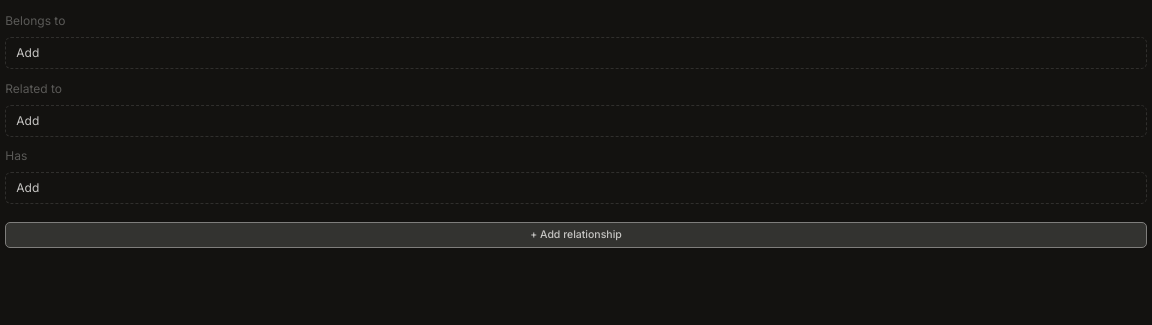
Scenario: DynamicRelationshipsPanel › create & open from AddRelationshipForm › shows "Create & open" option in target input when title does not exist
Click the button "+ Add relationship" at (576, 235), box [5,222,1147,248]
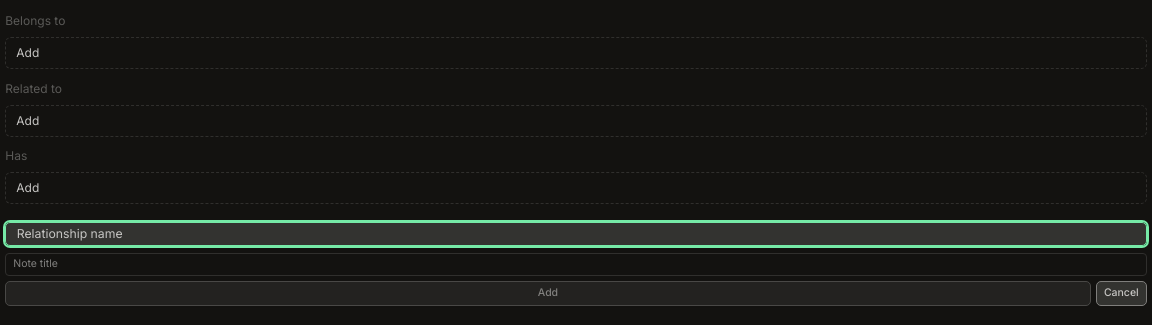
Type "Mentions" into the field with placeholder "Relationship name" at (576, 234), box [5,222,1147,246]
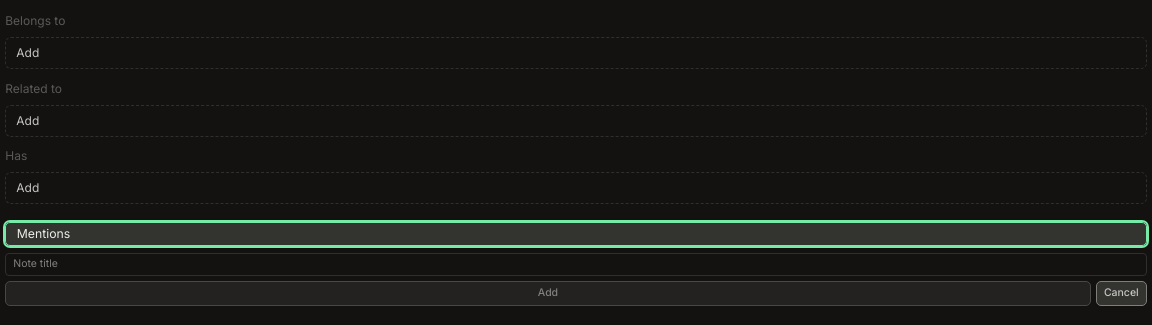
Type "New Person" into the field with placeholder "Note title" at (576, 264), box [5,253,1147,276]
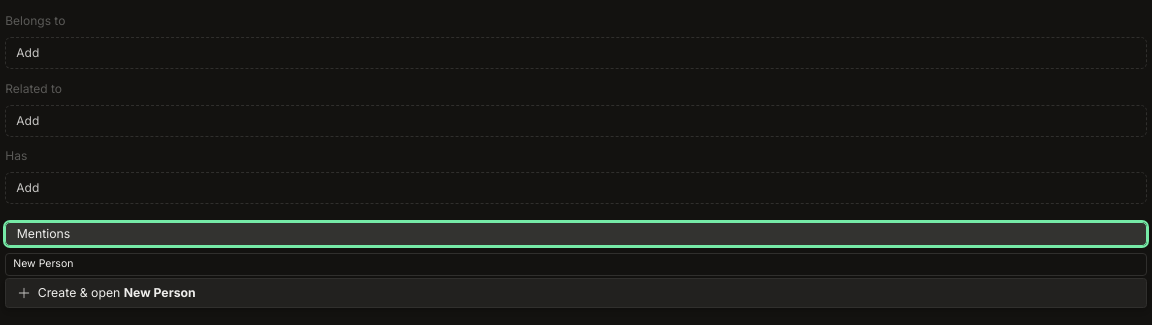
Result: the button with test id "create-and-open-option" is shown at [6,278,1146,306]
